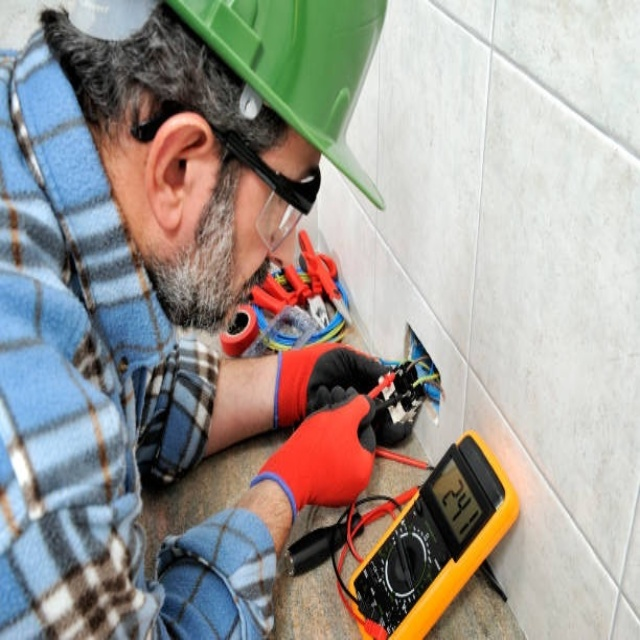Gafas: (131, 99, 324, 259)
Guantes: (261, 340, 394, 527)
Sin_mascara: (210, 228, 297, 337)
